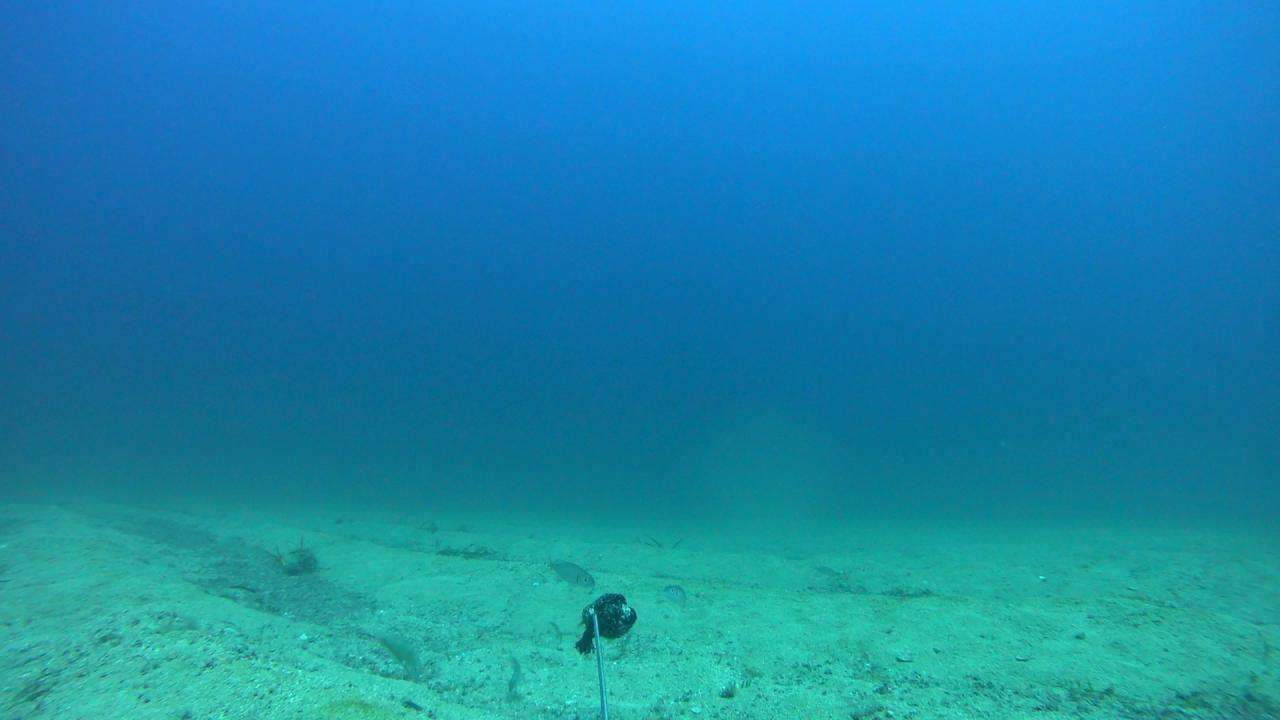pagellus: (544, 553, 594, 589), (502, 656, 522, 694), (667, 584, 689, 613)
raor: (366, 629, 420, 684)
